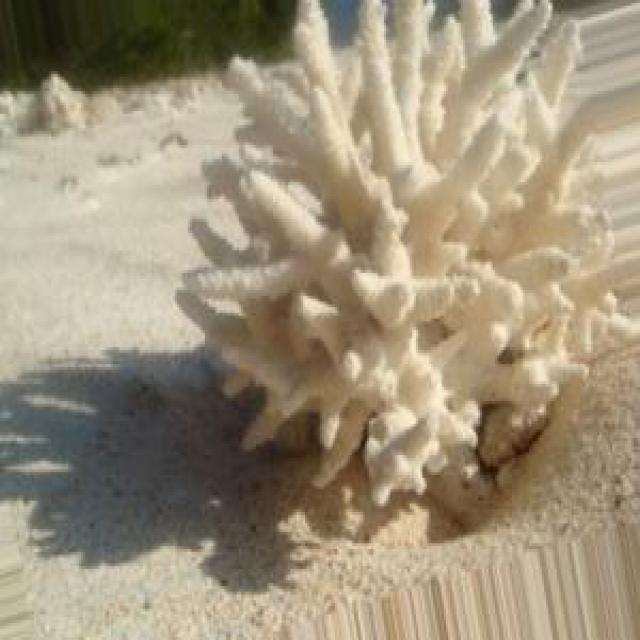bleached coral: (179, 2, 614, 506)
